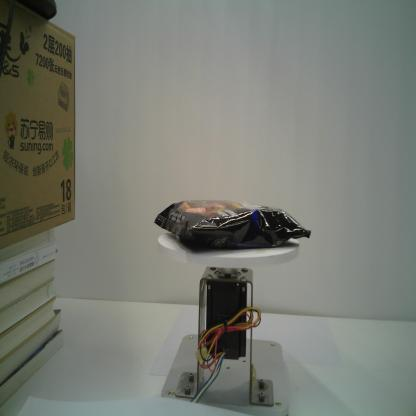Instant Noodles: (154, 198, 312, 252)
